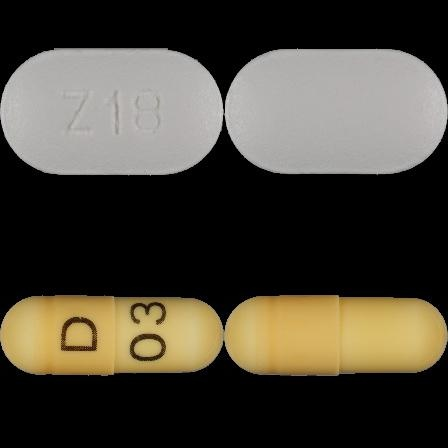0615-7960: (0, 0, 224, 224)
